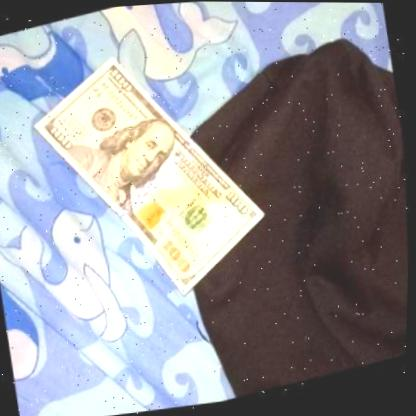one_hundred-front: (13, 25, 287, 331)
